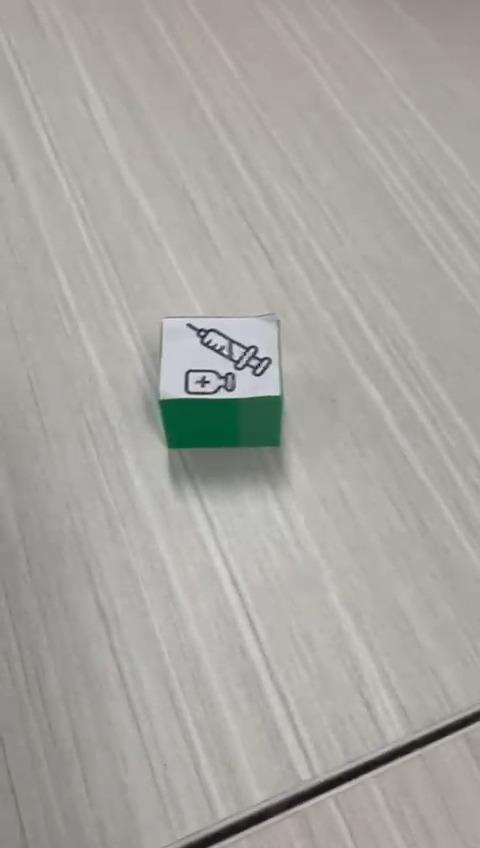antiseptic cream: (156, 311, 284, 449)
